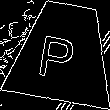P_N: (41, 24, 85, 80)
